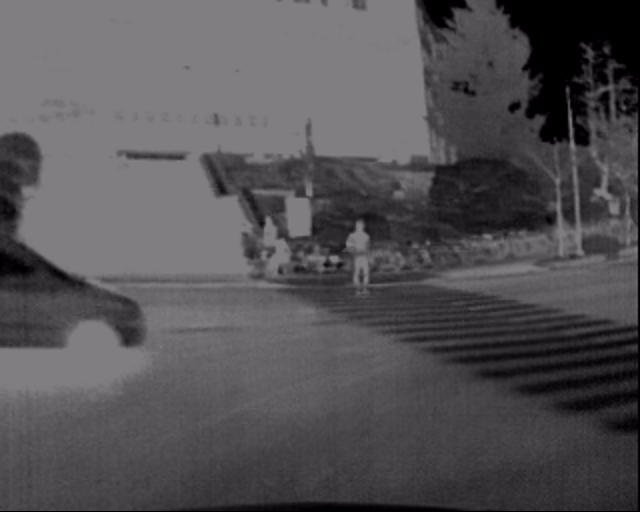person: (212, 216, 259, 286), (98, 133, 138, 196), (339, 215, 364, 290), (242, 217, 268, 280)
